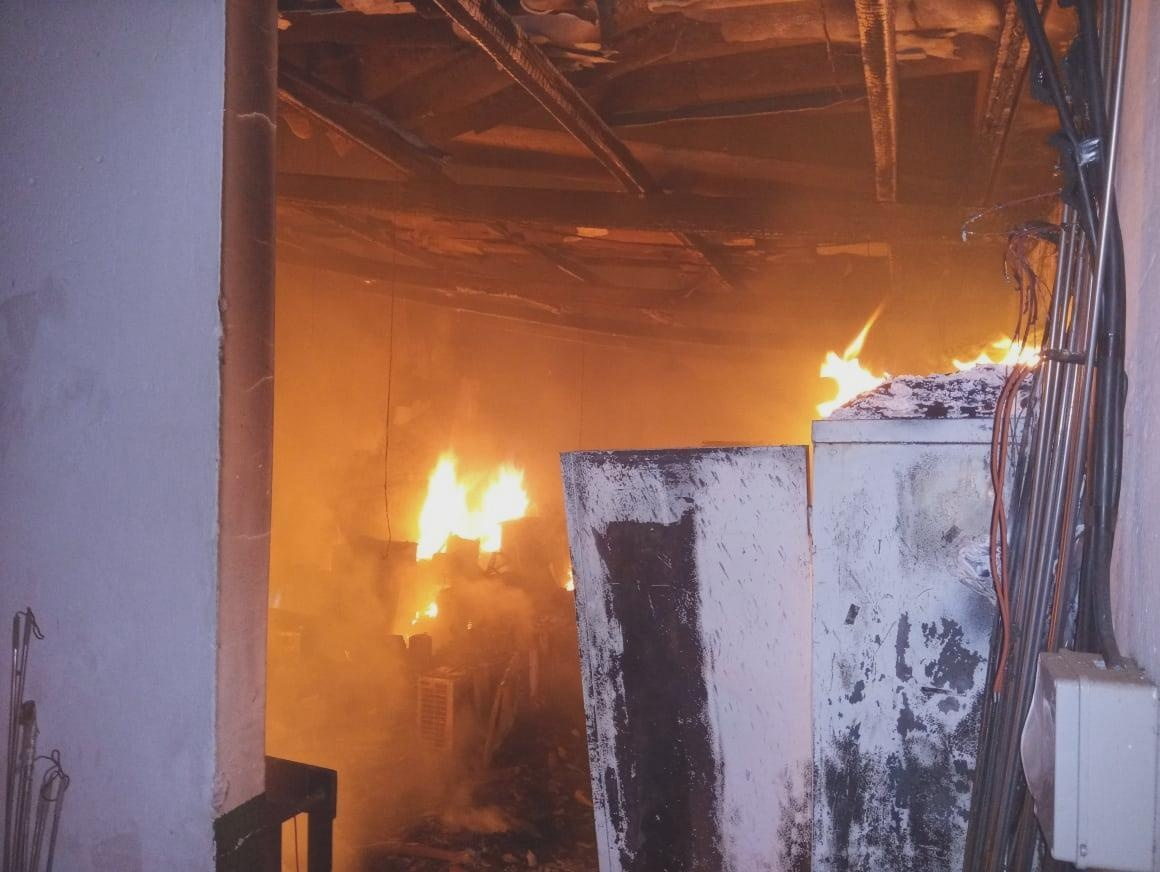fire: (735, 273, 1050, 424), (383, 388, 553, 622)
